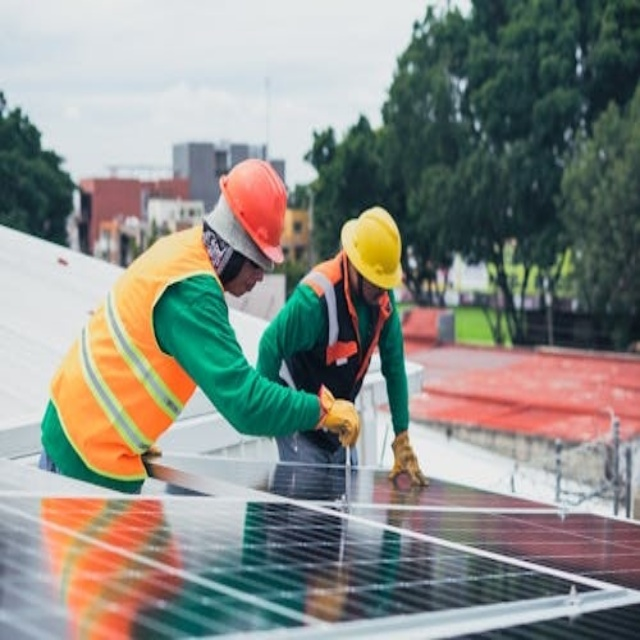Guantes: (312, 374, 366, 456), (385, 420, 435, 502)
Sin_mascara: (234, 263, 262, 305)
